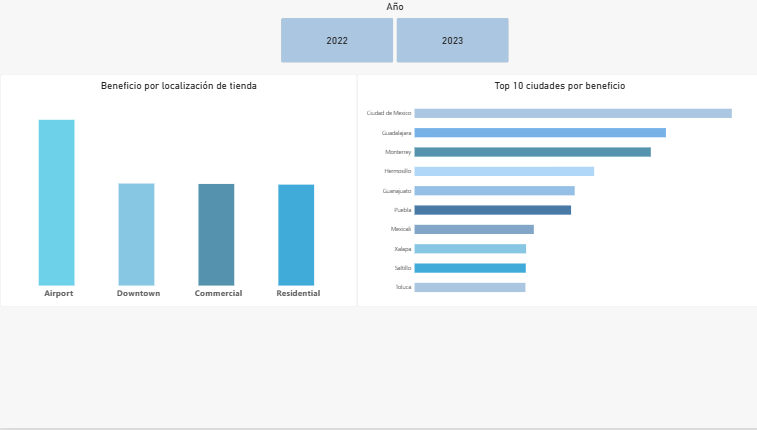

What the dashboard file says about the page in this screenshot:
{"tool":"powerbi","page":{"name":"Tiendas","canvas":[1920,1080],"ordinal":1},"visuals":[{"type":"columnChart","title":"Beneficio por localización de tienda","fields":{"Category":["dataset_final.Store_Location"],"Y":["dataset_final.Beneficio por tienda"]},"box":[0,186.5,899.5,587.1],"z":0},{"type":"barChart","title":"Top 10 ciudades por beneficio","fields":{"Category":["dataset_final.Store_City"],"Y":["Sum(dataset_final.Profit)"]},"box":[899.5,186.5,1020.5,587.1],"z":1},{"type":"advancedSlicerVisual","fields":{"Values":["dataset_final.Año"]},"box":[708,0,574.5,158.7],"z":2}]}

Visuals, with their boxes in screenshot pixels (x1, y1, x2, y2), scaled from the page's 1920x1080 canvas onto the 757x430 screenshot:
"Beneficio por localización de tienda" columnChart: [0,74,355,308]
"Top 10 ciudades por beneficio" barChart: [355,74,756,308]
advancedSlicerVisual - dataset_final.Año: [279,0,506,63]
